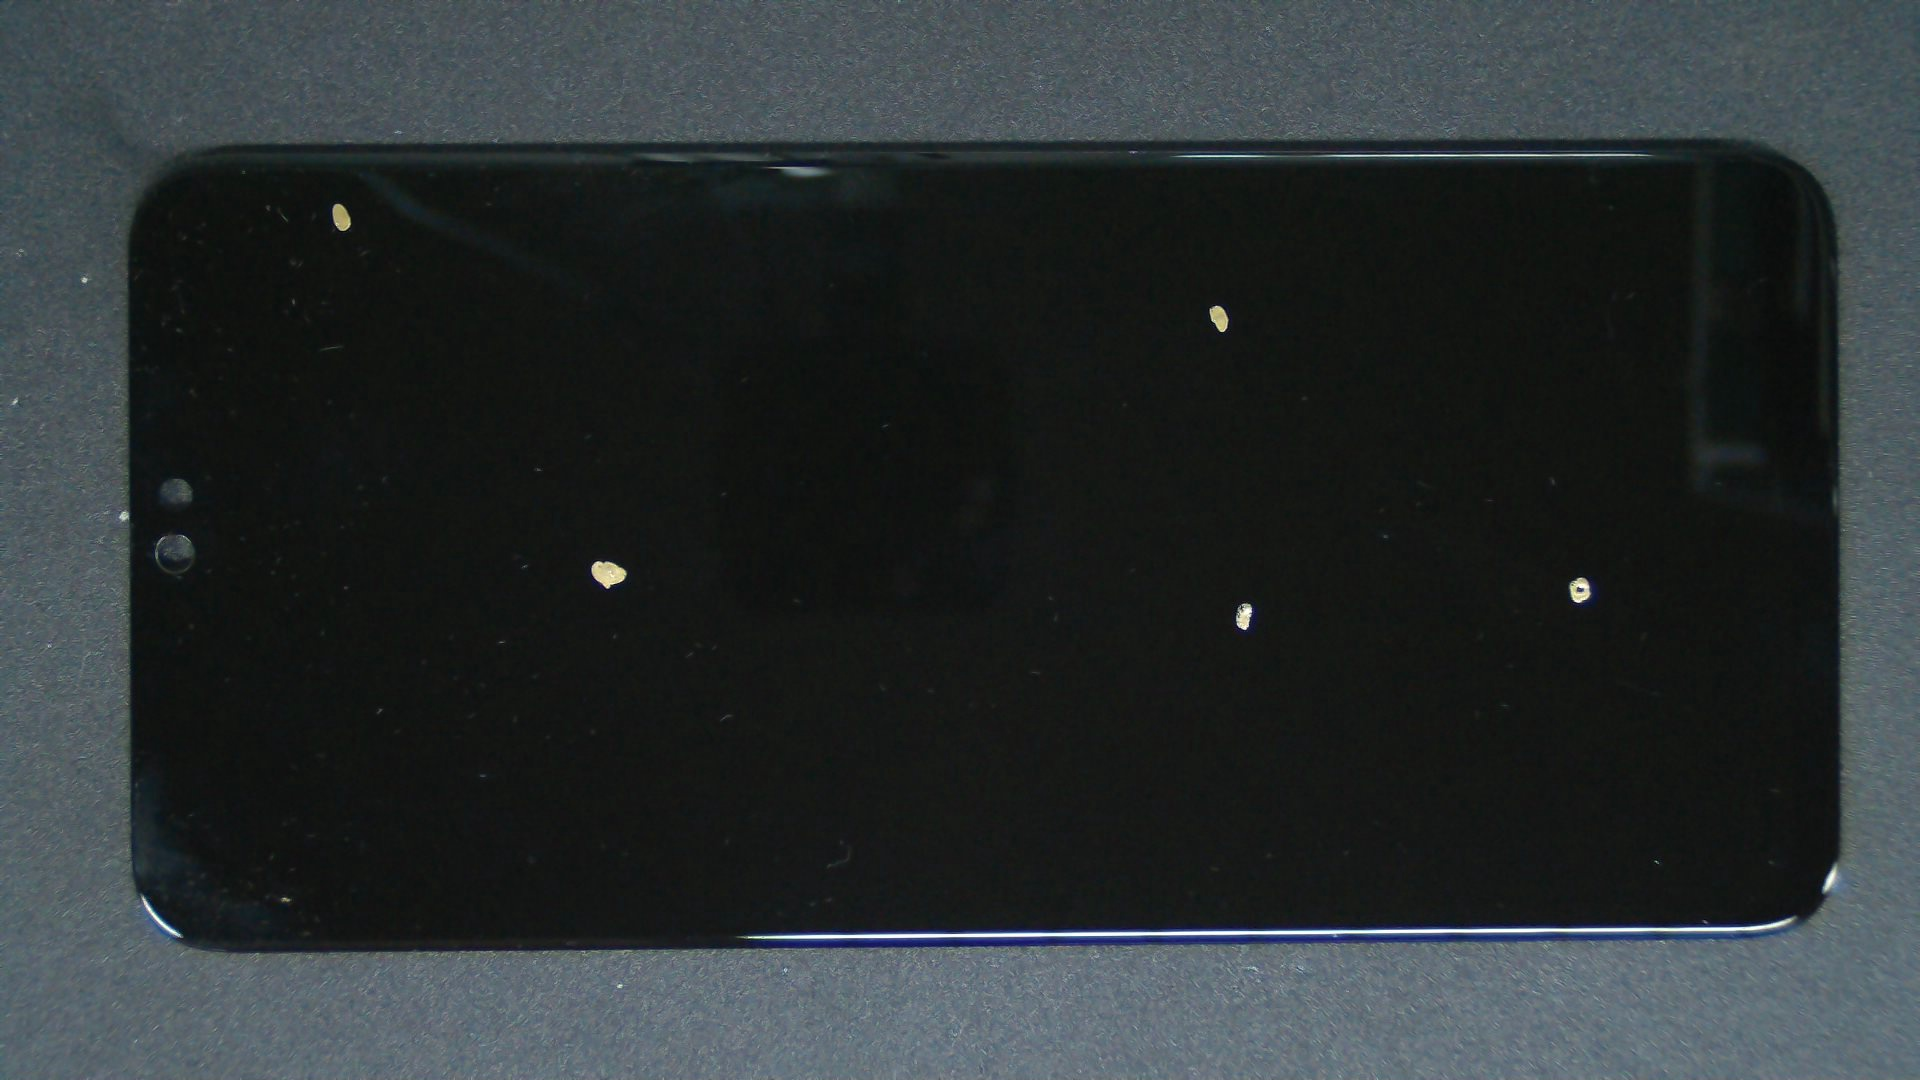oil: (621, 299, 1861, 905), (790, 287, 1920, 865), (608, 152, 1822, 456), (301, 280, 899, 839), (167, 100, 501, 303)
